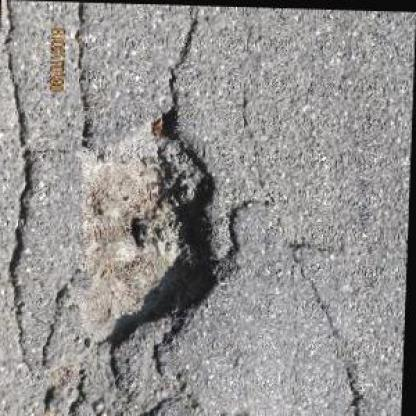pothole: (72, 103, 233, 354)
